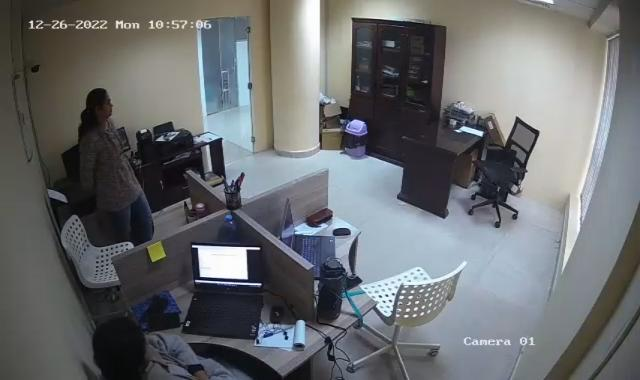no_hairnet: (90, 313, 153, 376), (84, 88, 116, 120)
